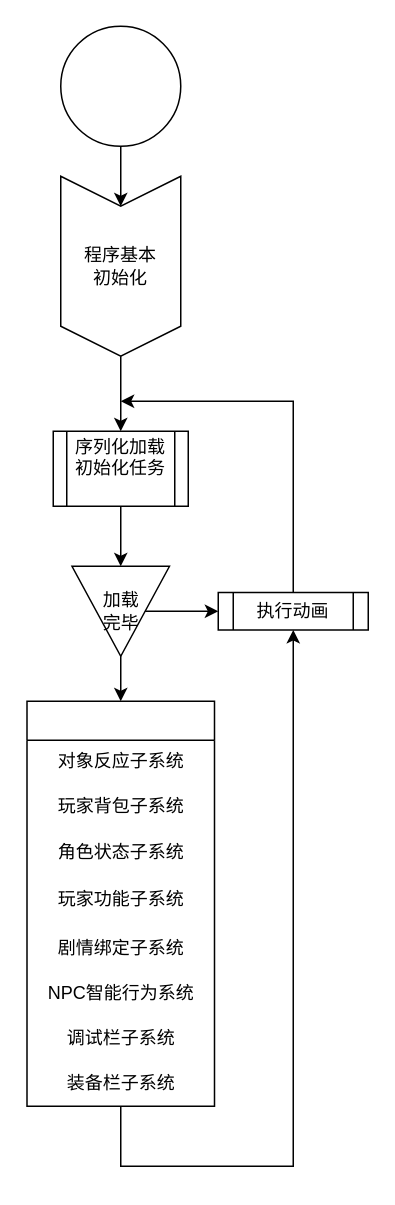
Some shapes in this 395 by 1205 pixel diagram are drawn without their labels. The shapes that lost their labels are listed below. From the top down, each one's box as (x1, y1, x2, y2) in pixels, then its label:
(59, 25, 181, 146): 程序入口
(26, 700, 214, 1106): 程序主循环
